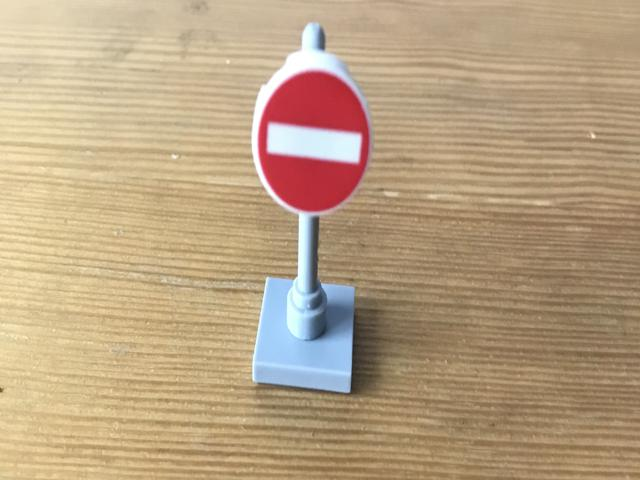verbot der einfahrt: (250, 61, 374, 216)
